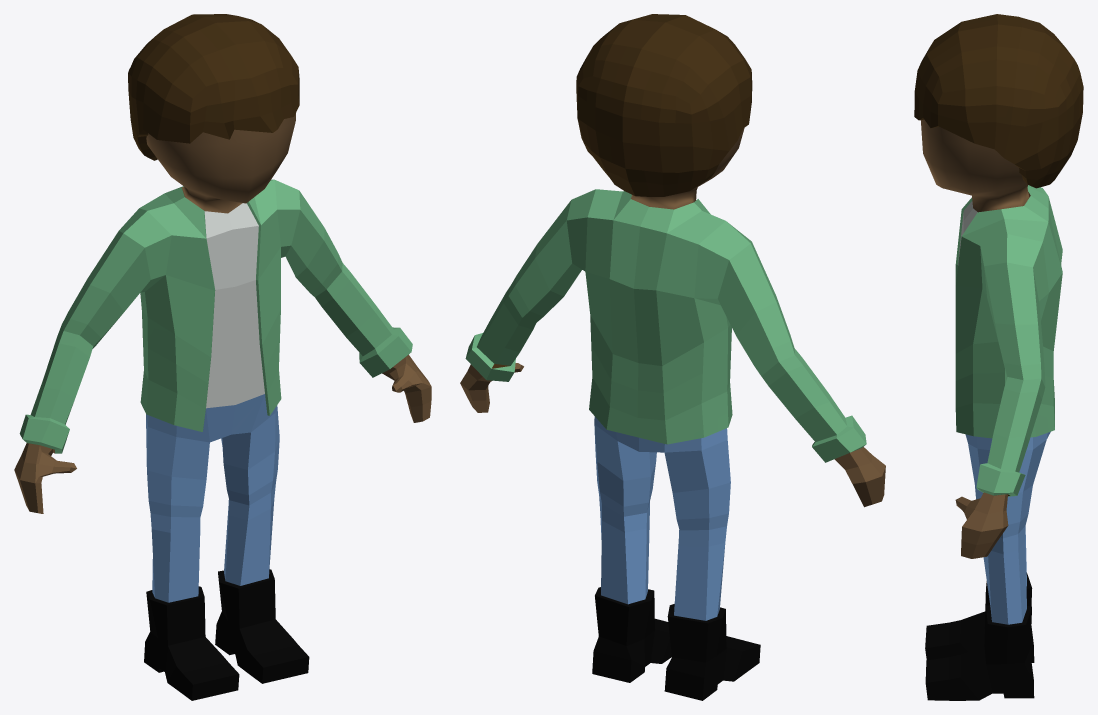
Rendered from Boy2.fbx.
3 views of the same model, side by side, from view 1: azimuth 30°, elevation 25°; view 2: azimuth 150°, elevation 25°; view 3: azimuth 270°, elevation 25° (orthographic). The views are drawn at different scales.
Parts seen in each view (by area): view 1: Character.001_Character.002; view 2: Character.001_Character.002; view 3: Character.001_Character.002.
Part boxes in pixels (left/top/right/bottom): Character.001_Character.002: left=14, top=14, right=431, bottom=700; Character.001_Character.002: left=460, top=14, right=885, bottom=700; Character.001_Character.002: left=914, top=14, right=1083, bottom=700.
Size of the model in its own units: 272 by 407 by 96.29.
